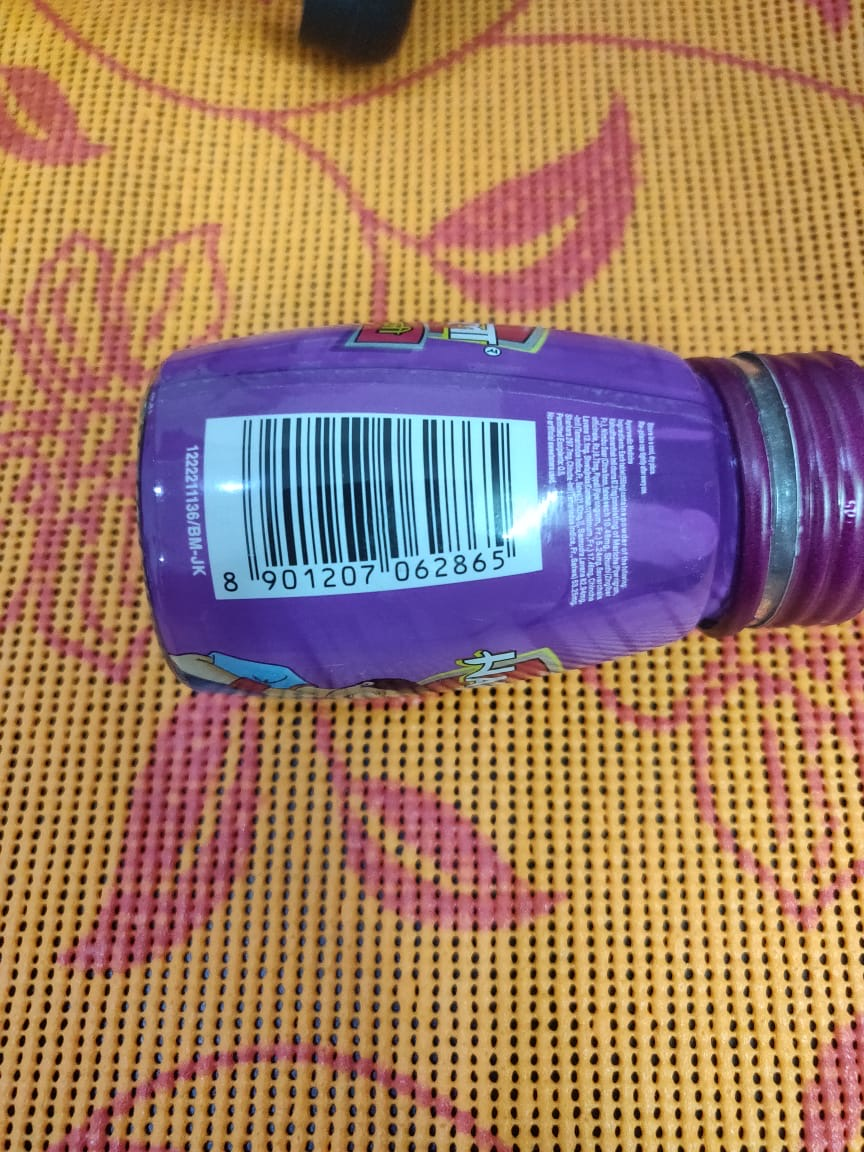barcode: (218, 417, 523, 585)
